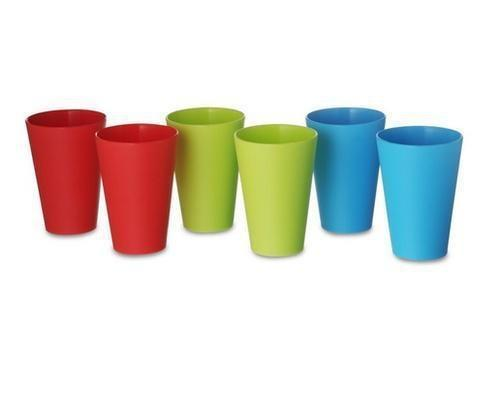cup-disposable: (375, 124, 464, 263), (234, 123, 319, 257), (94, 123, 180, 255), (303, 103, 388, 235), (24, 107, 109, 235), (166, 106, 246, 234)
